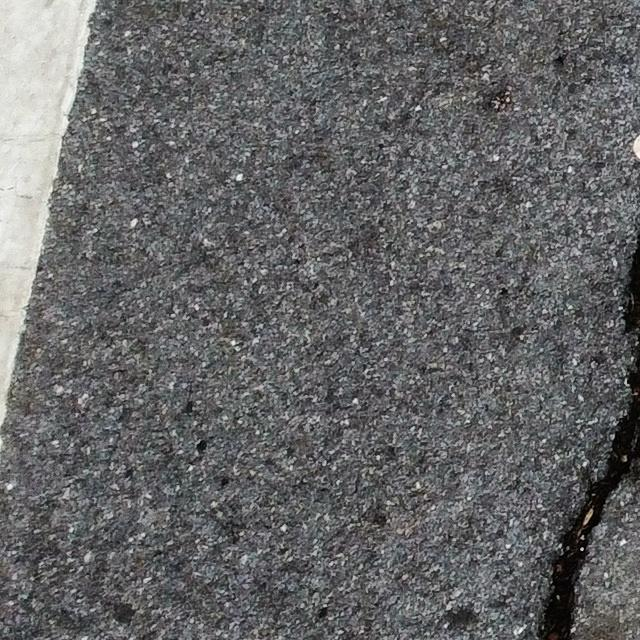LongitudinalCrack: (537, 228, 640, 639)
